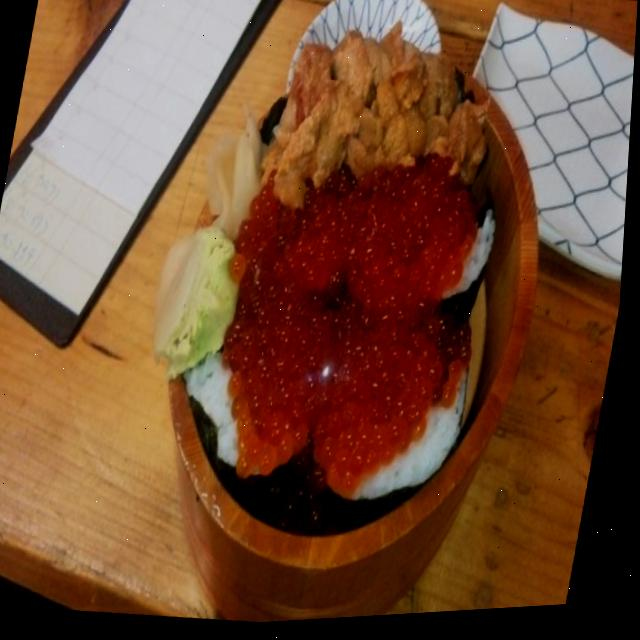刺身生食: (117, 0, 566, 565)
